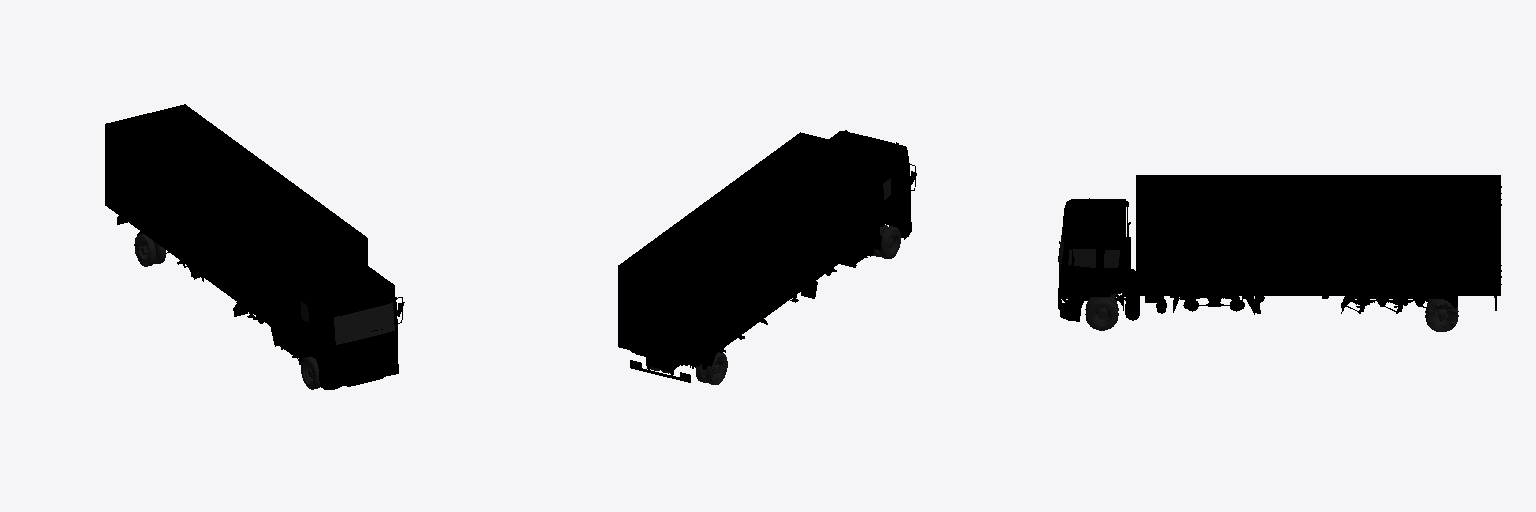
The model's file is truck.obj.
The picture shows the model from 3 angles: view 1: azimuth 30°, elevation 25°; view 2: azimuth 150°, elevation 25°; view 3: azimuth 270°, elevation 25°; orthographic projection.
Visible parts, largest first — view 1: group1trailer_main truck, truck group1truck_main, truck wheelsgroup1; view 2: group1trailer_main truck, truck group1truck_main, truck wheelsgroup1, truck group1wheels_back; view 3: group1trailer_main truck, truck group1truck_main, truck group1wheels_back, truck wheelsgroup1.
Part boxes in pixels (x1,y1,x2,y2): group1trailer_main truck: (105, 104, 367, 338); truck group1truck_main: (233, 263, 404, 389); truck wheelsgroup1: (134, 234, 165, 266); group1trailer_main truck: (618, 132, 879, 382); truck group1truck_main: (801, 130, 916, 298); truck wheelsgroup1: (651, 352, 727, 384); truck group1wheels_back: (873, 225, 900, 258); group1trailer_main truck: (1132, 175, 1501, 313); truck group1truck_main: (1058, 198, 1264, 321); truck group1wheels_back: (1085, 293, 1118, 330); truck wheelsgroup1: (1425, 299, 1458, 331).
Bounding box in the file's own units: 283 × 360 × 1182.